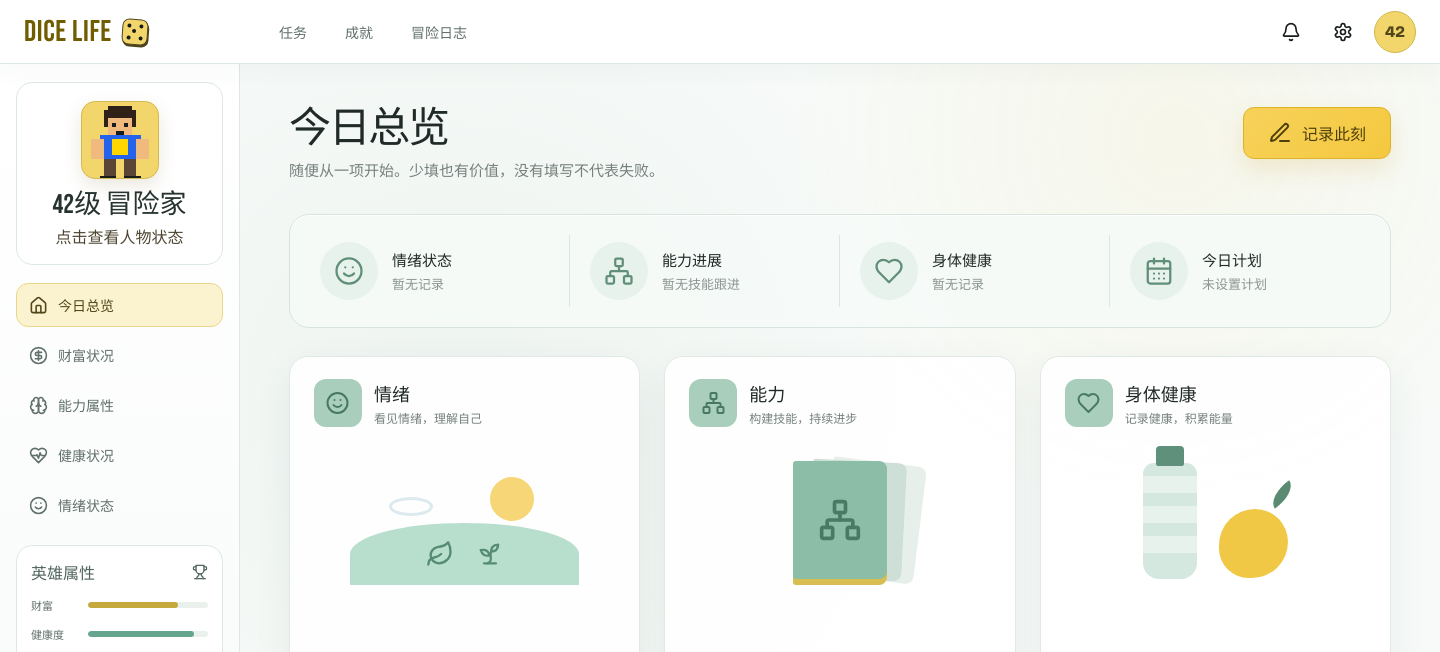
Scenario: Economy dashboard › uses the global today overview as home and returns there from the Dice Life logo
This screenshot has width=1440, height=652.
Expected: the heading "今日总览" is shown, top-left (289, 103), bottom-right (448, 153)
Click the button "财富状况" at (120, 355), box top-left (16, 333), bottom-right (223, 377)
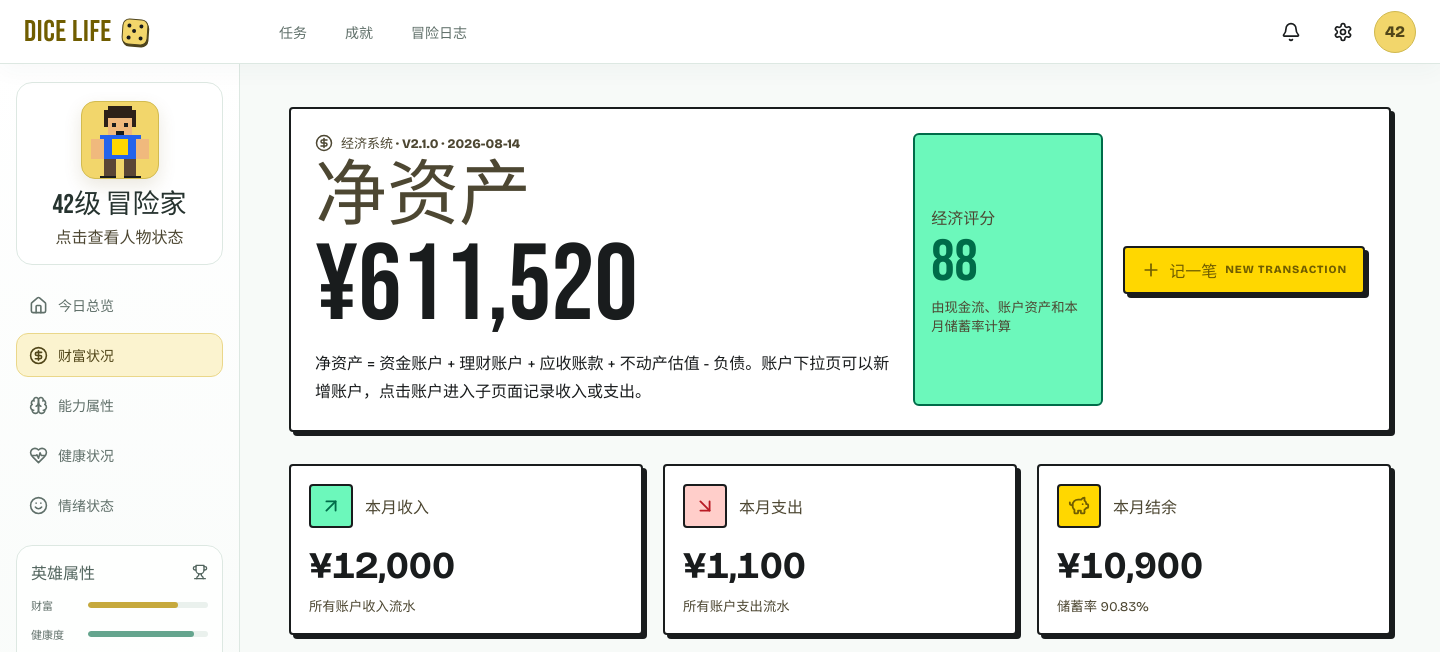
Now the heading "净资产" is shown, box top-left (315, 154), bottom-right (531, 241)
Click the button "Dice Life" at (86, 32), box top-left (24, 10), bottom-right (148, 54)
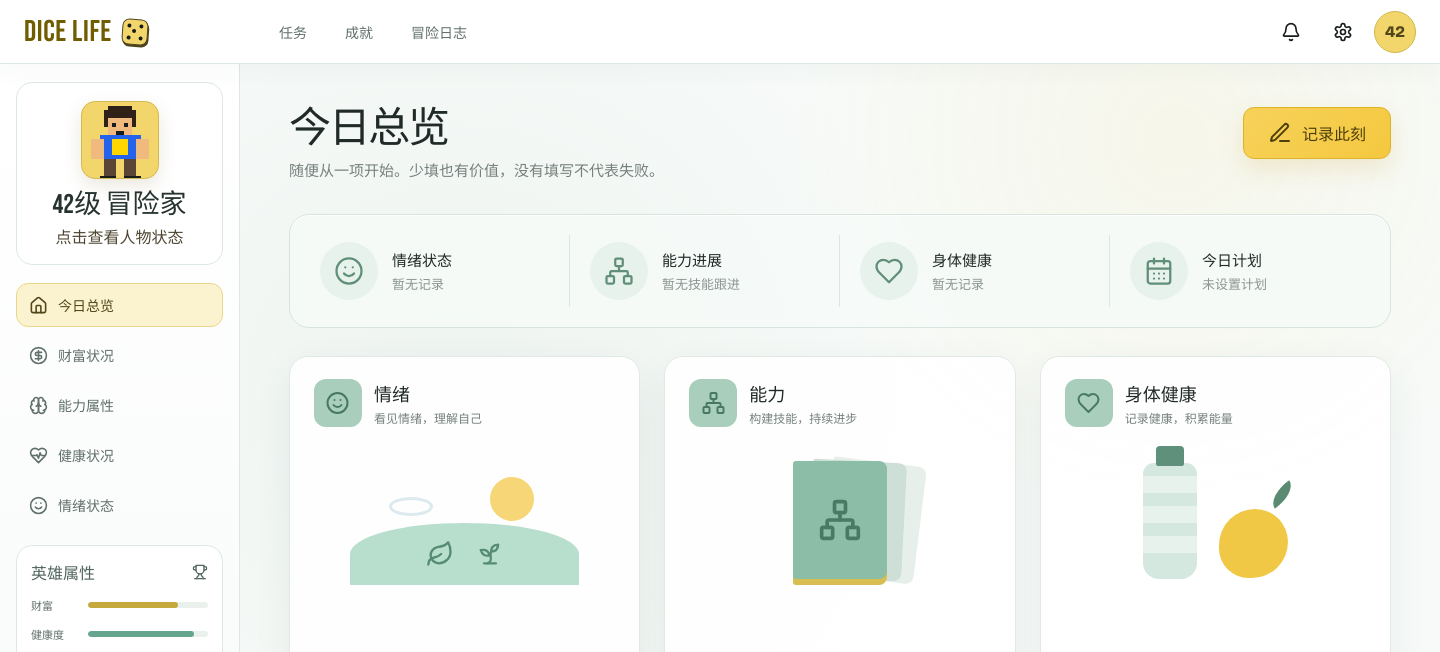
Now the heading "今日总览" is shown, box top-left (289, 103), bottom-right (448, 153)
